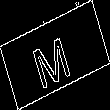M_N: (32, 23, 78, 87)
